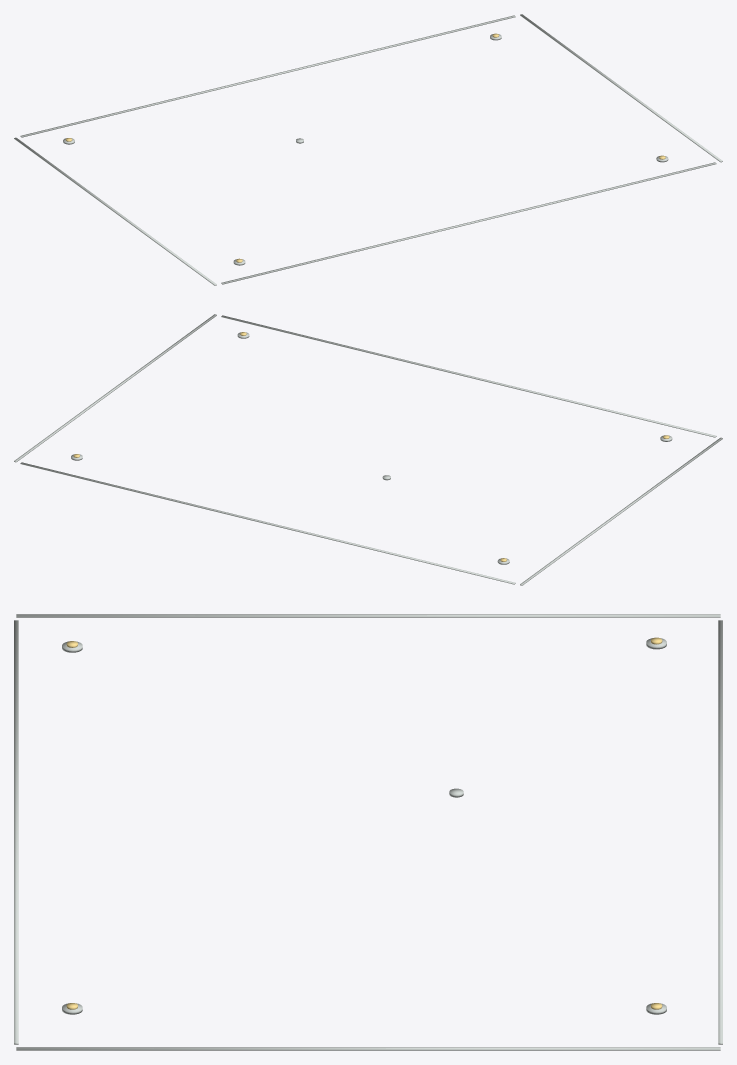
Rendered from 13_L94_SilkscreenAndTestFiducials.glb.
3 views of the same model, one above another, from view 1: azimuth 30°, elevation 25°; view 2: azimuth 150°, elevation 25°; view 3: azimuth 270°, elevation 25° (orthographic). The views are drawn at different scales.
Visible parts, largest first — view 1: L94_SilkscreenAndTestFiducial_Part_0000; view 2: L94_SilkscreenAndTestFiducial_Part_0000; view 3: L94_SilkscreenAndTestFiducial_Part_0000.
Part boxes in pixels (x1,y1,x2,y2): L94_SilkscreenAndTestFiducial_Part_0000: (14,14,722,285); L94_SilkscreenAndTestFiducial_Part_0000: (14,314,722,585); L94_SilkscreenAndTestFiducial_Part_0000: (14,614,722,1050).
Size of the model in its own units: 1.29 by 0.01 by 0.886.
